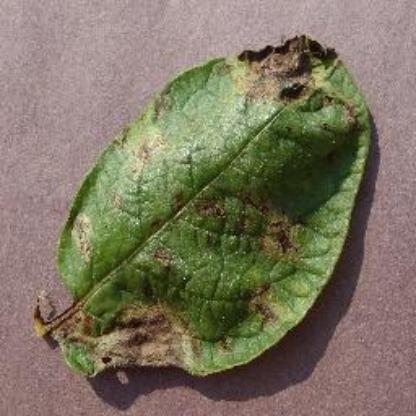Late-Blight: (32, 29, 380, 384)
